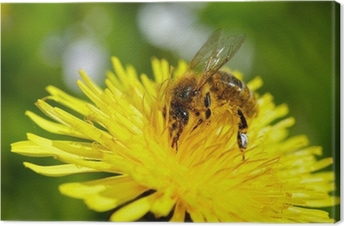dandelion: (27, 62, 332, 223)
